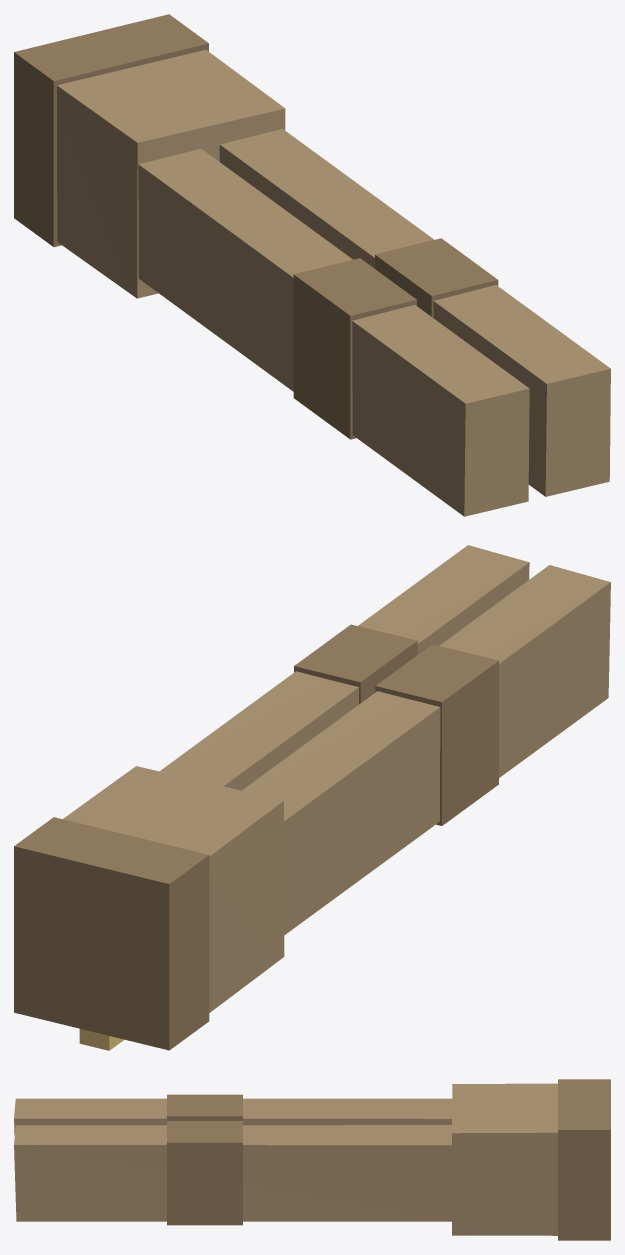
File: LegsLeather.fbx
3 views of the same model, one above another, from view 1: azimuth 30°, elevation 25°; view 2: azimuth 150°, elevation 25°; view 3: azimuth 270°, elevation 25° (orthographic). The views are drawn at different scales.
Visible parts, largest first — view 1: fam_leather, fam_leather_dark; view 2: fam_leather, fam_leather_dark; view 3: fam_leather, fam_leather_dark.
Boxes of the visible parts, x1,y1,x2,y2 form: fam_leather: [57, 50, 610, 516]; fam_leather_dark: [14, 14, 498, 439]; fam_leather: [63, 545, 610, 1012]; fam_leather_dark: [14, 624, 498, 1050]; fam_leather: [14, 1083, 557, 1235]; fam_leather_dark: [167, 1079, 610, 1240].
Size of the model in its own units: 3.68 by 4.16 by 18.36.
